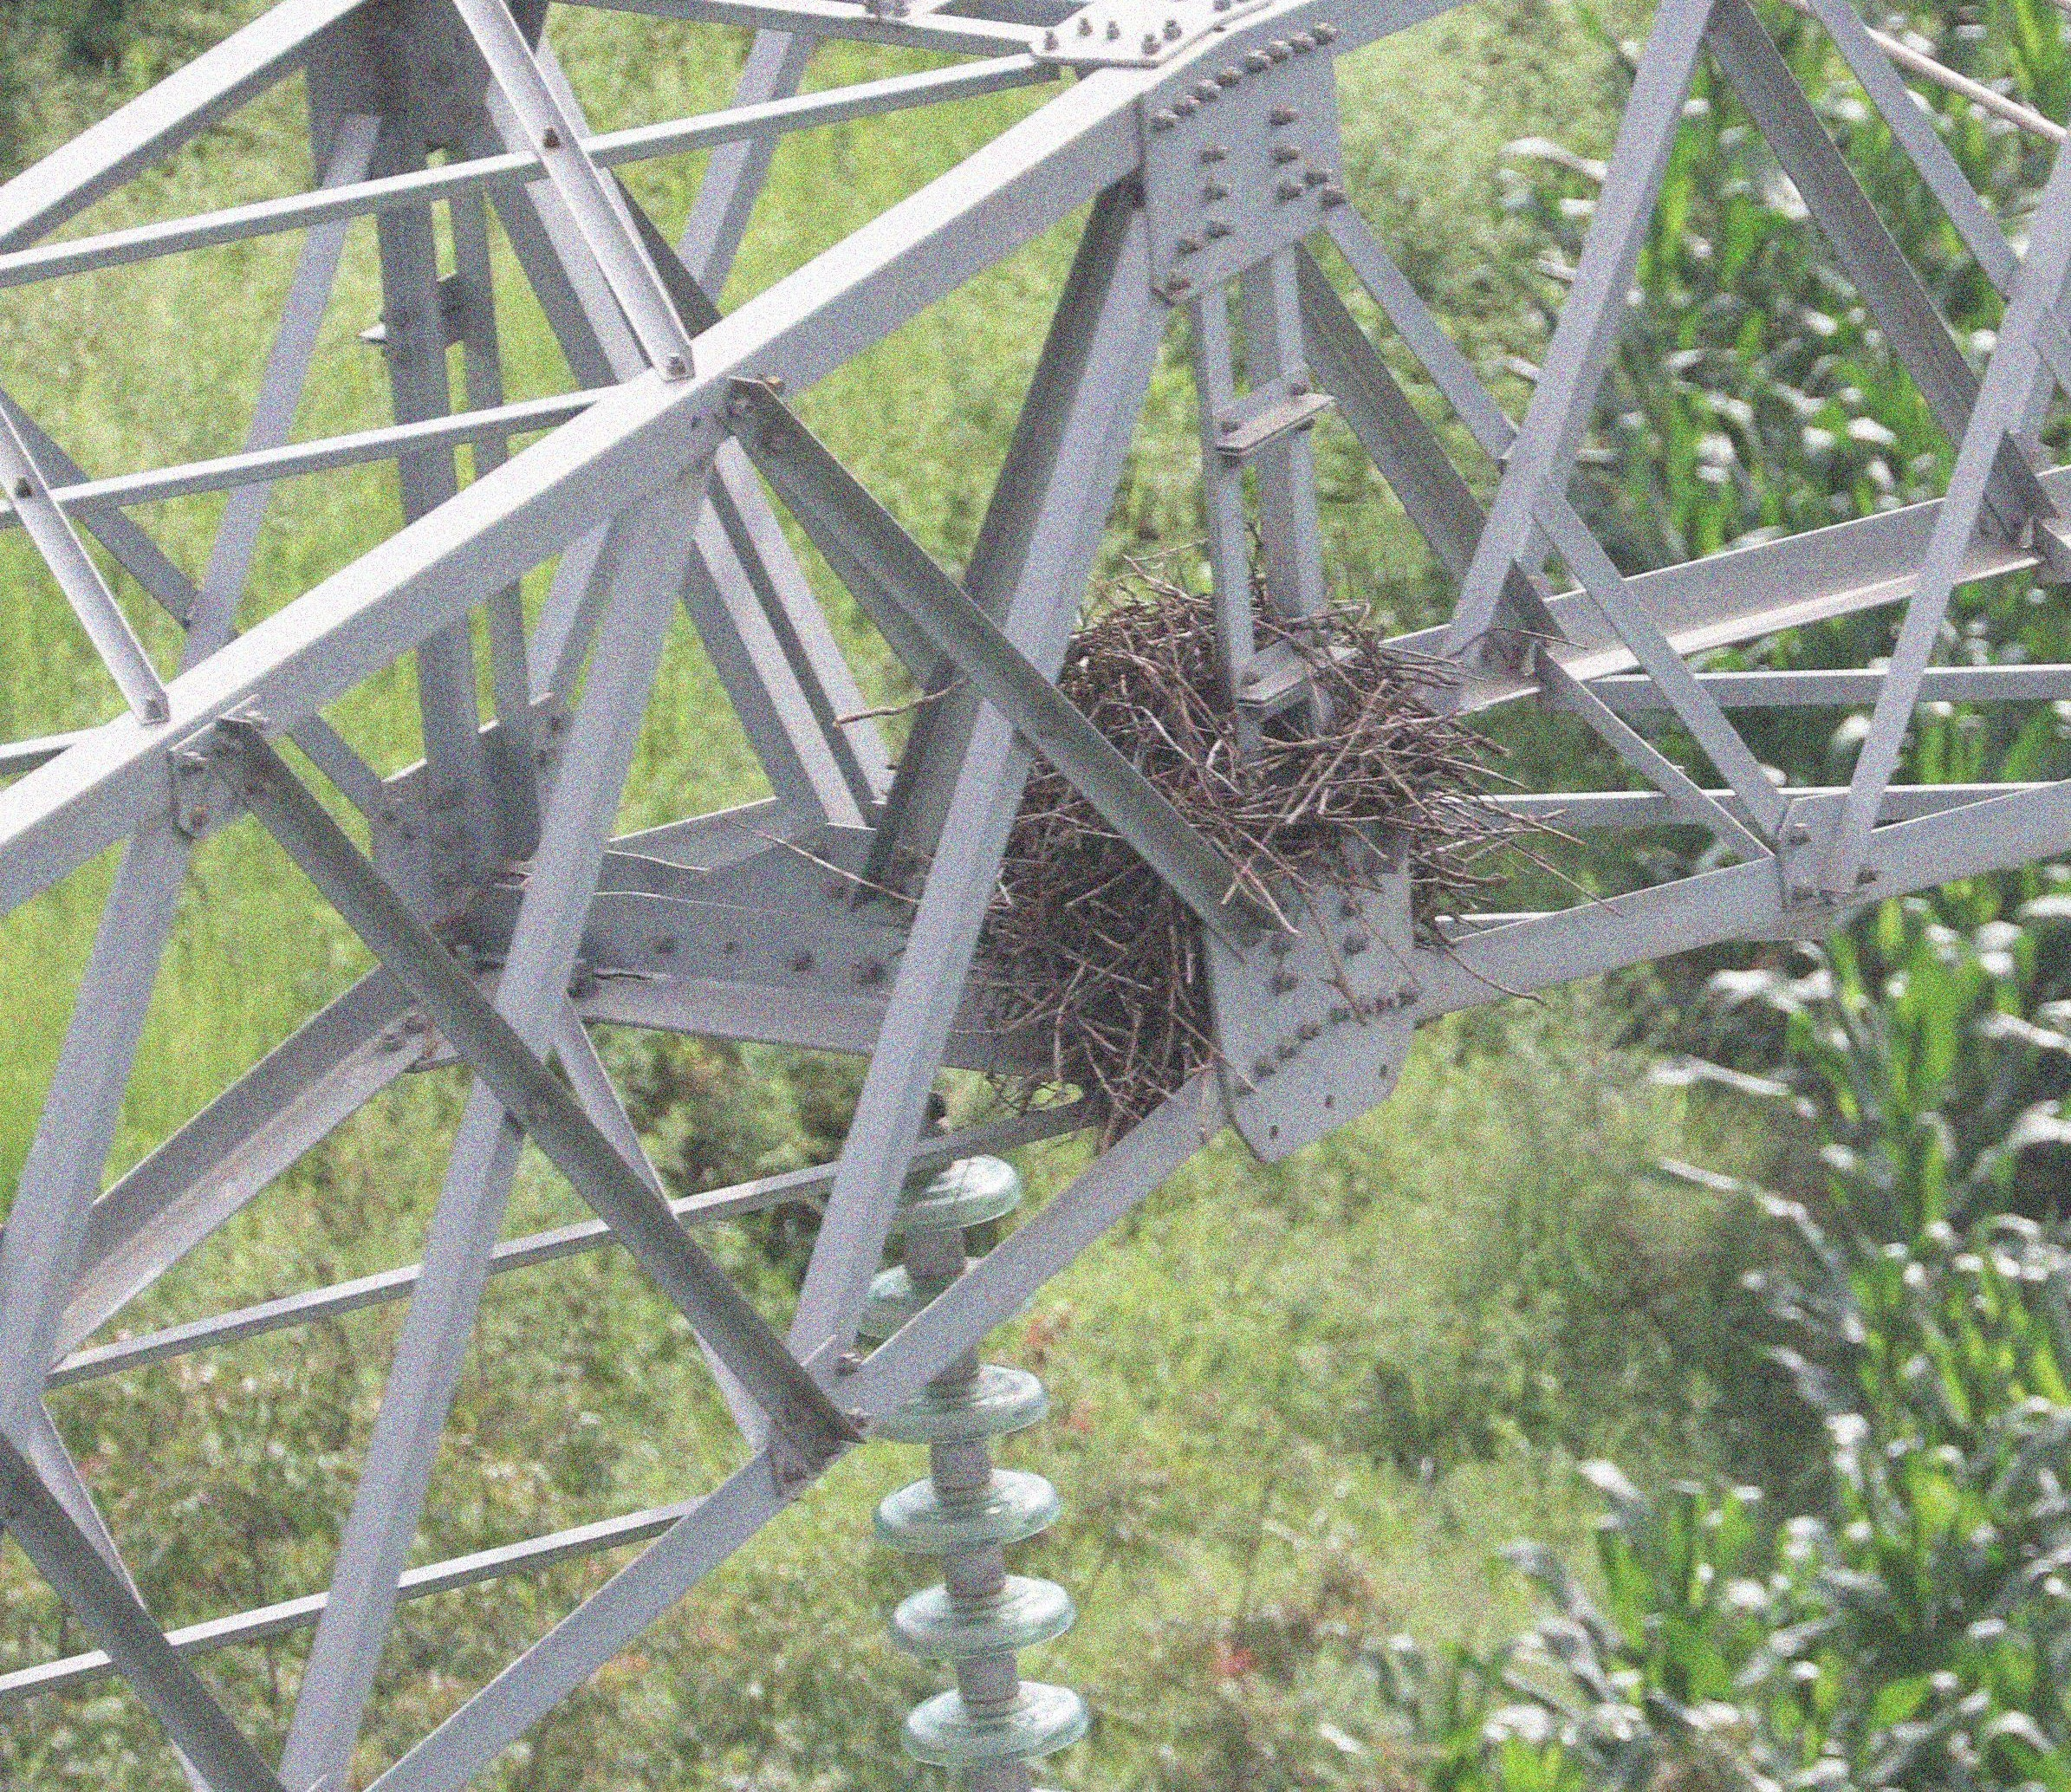niaowo: (935, 560, 1463, 1179)
